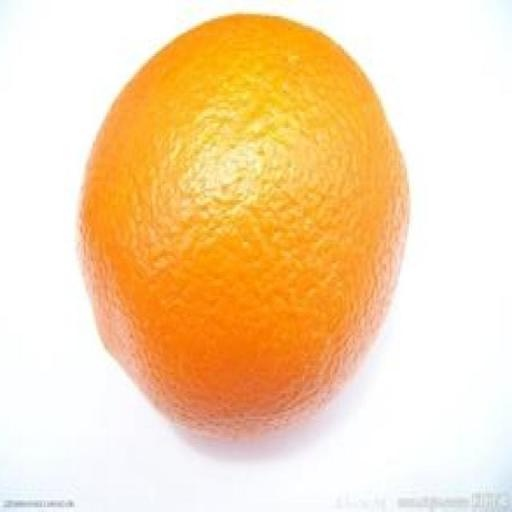fruit: (80, 16, 407, 436)
